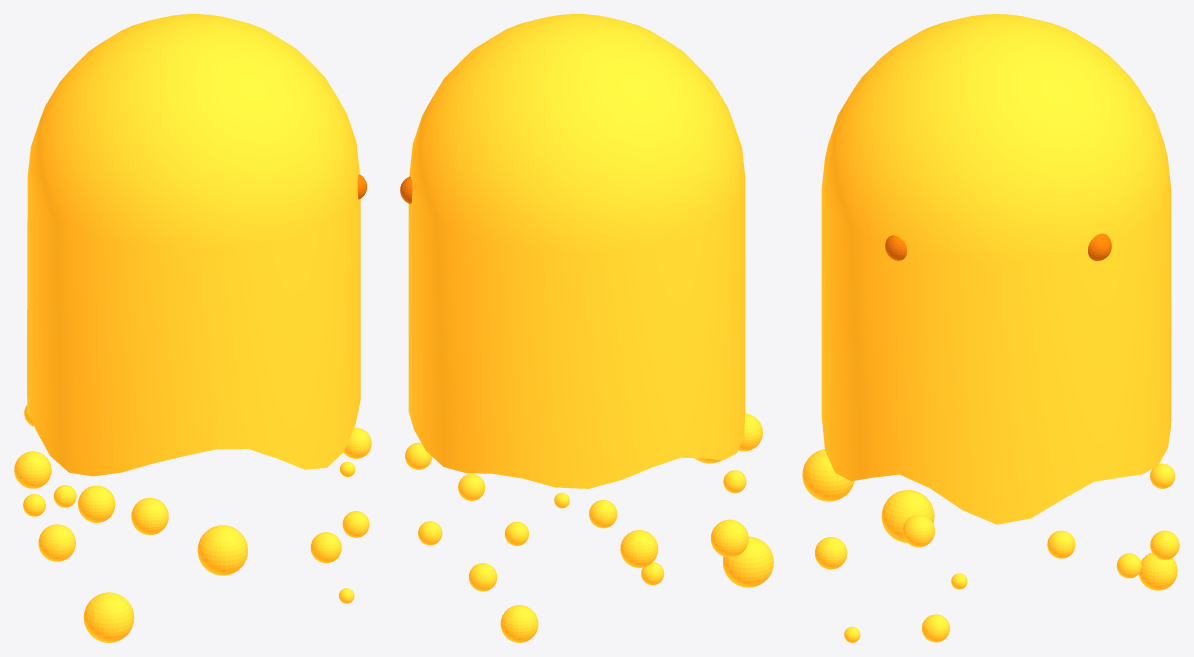
Rendered from ghosts gold2.fbx.
3 renders of one model, left to right at view 1: azimuth 30°, elevation 25°; view 2: azimuth 150°, elevation 25°; view 3: azimuth 270°, elevation 25°, orthographic. The views are drawn at different scales.
Parts seen in each view (by area): view 1: Sphere.049, Sphere.059, Sphere.069, Sphere.060, Sphere.070, Sphere.062, Sphere.052, Sphere.068, Sphere.058, Sphere.071; view 2: Sphere.049, Sphere.069, Sphere.062, Sphere.070, Sphere.052, Sphere.053, Sphere.063, Sphere.060, Sphere.071, Sphere.061; view 3: Sphere.049, Sphere.059, Sphere.069, Sphere.062, Sphere.058, Sphere.068, Sphere.063, Sphere.061, Sphere.071.
Boxes of the visible parts, x1,y1,x2,y2 form: Sphere.049: [27, 14, 360, 476]; Sphere.059: [197, 525, 247, 575]; Sphere.069: [83, 592, 134, 642]; Sphere.060: [131, 497, 168, 535]; Sphere.070: [38, 524, 75, 561]; Sphere.062: [78, 485, 115, 522]; Sphere.052: [14, 451, 51, 488]; Sphere.068: [310, 532, 341, 563]; Sphere.058: [343, 427, 371, 458]; Sphere.071: [342, 511, 369, 537]; Sphere.049: [408, 14, 745, 488]; Sphere.069: [723, 536, 773, 587]; Sphere.062: [500, 605, 538, 642]; Sphere.070: [711, 519, 748, 557]; Sphere.052: [620, 530, 658, 567]; Sphere.053: [589, 500, 617, 528]; Sphere.063: [469, 563, 497, 591]; Sphere.060: [738, 413, 762, 451]; Sphere.071: [458, 474, 485, 500]; Sphere.061: [405, 442, 431, 469]; Sphere.049: [821, 14, 1171, 524]; Sphere.059: [802, 449, 854, 501]; Sphere.069: [881, 490, 934, 542]; Sphere.062: [1138, 552, 1177, 590]; Sphere.058: [902, 515, 934, 547]; Sphere.068: [814, 537, 847, 569]; Sphere.063: [1150, 530, 1179, 559]; Sphere.061: [1047, 530, 1075, 558]; Sphere.071: [922, 614, 949, 642].
Bounding box in the file's own units: 313 × 538 × 320.
